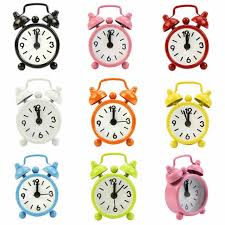alarm_clock: (10, 2, 208, 217)
